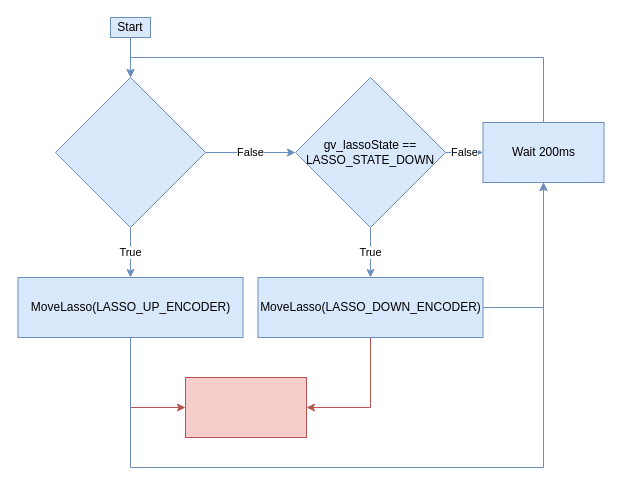
The diagram is 621 pixels wide and 493 high, and some of its shapes have lost their labels. The box of each missing label's shape, as (x1, y1, x2, y2) in pixels:
gv_lassoState == LASSO_STATE_UP: (54, 76, 206, 228)
LASSO_SERVO: (184, 376, 306, 438)
